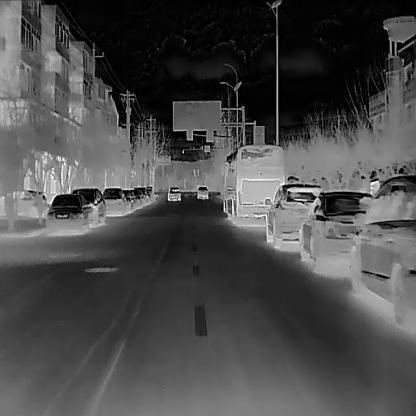bus: (223, 142, 283, 228)
car: (349, 173, 415, 331), (298, 189, 378, 279), (264, 181, 324, 250), (0, 187, 47, 221), (46, 192, 88, 230), (72, 186, 106, 227), (102, 186, 127, 216), (120, 190, 136, 212), (166, 184, 180, 200), (196, 184, 208, 199)
